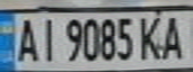0: (81, 15, 100, 63)
5: (115, 15, 139, 62)
8: (100, 15, 118, 62)
9: (60, 15, 84, 62)
A: (157, 12, 190, 61), (12, 15, 42, 63)
I: (36, 14, 60, 63)
K: (136, 12, 166, 61)
